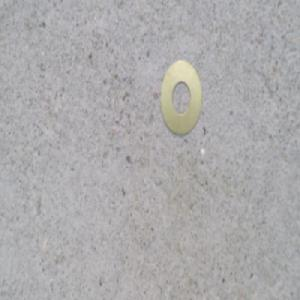Washer: (159, 61, 202, 137)
